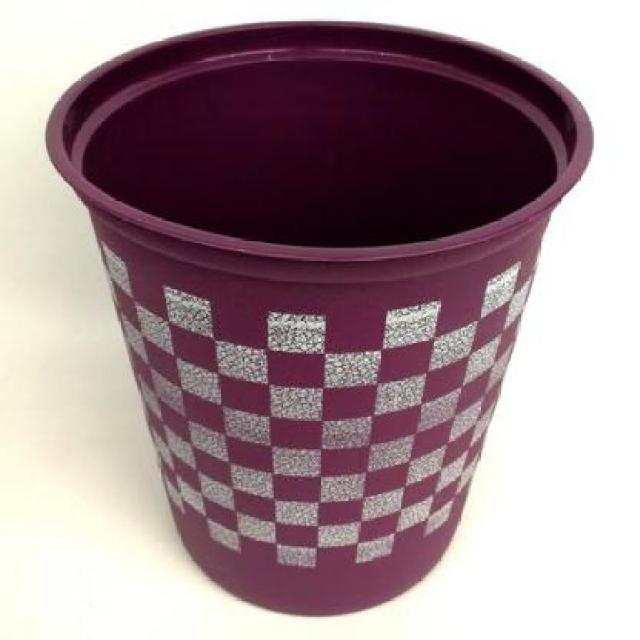dustbin: (40, 14, 602, 621)
